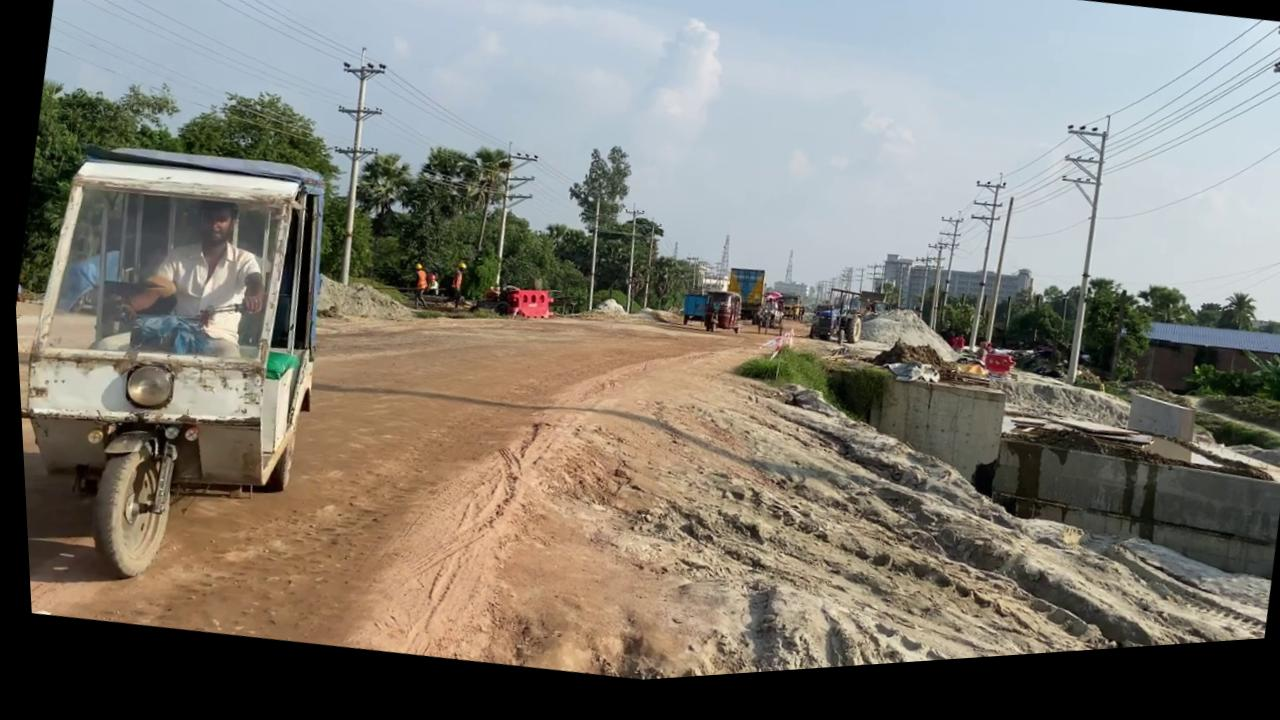Obstacle: (1116, 402, 1194, 463)
Pole: (302, 47, 397, 293), (573, 199, 609, 319)
Traffic-sign: (543, 143, 639, 325)
Tree: (6, 120, 356, 611), (673, 269, 746, 346), (800, 294, 864, 360), (399, 260, 467, 321), (468, 283, 552, 332), (772, 301, 803, 333)
